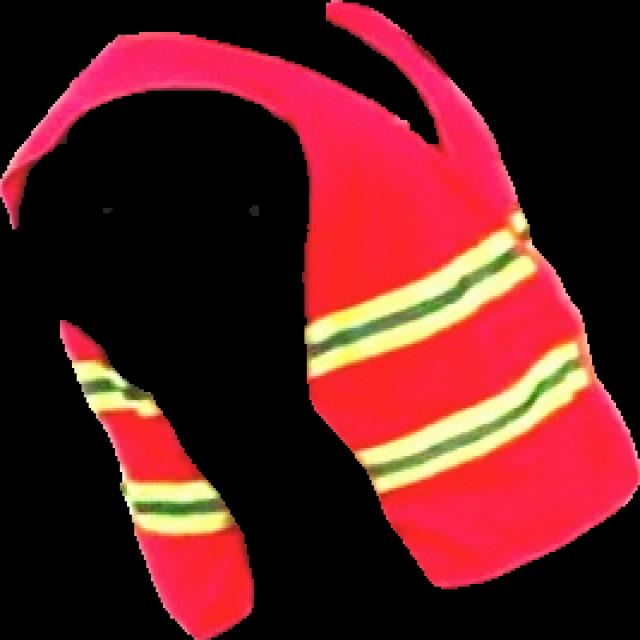Colete: (0, 0, 639, 589)
